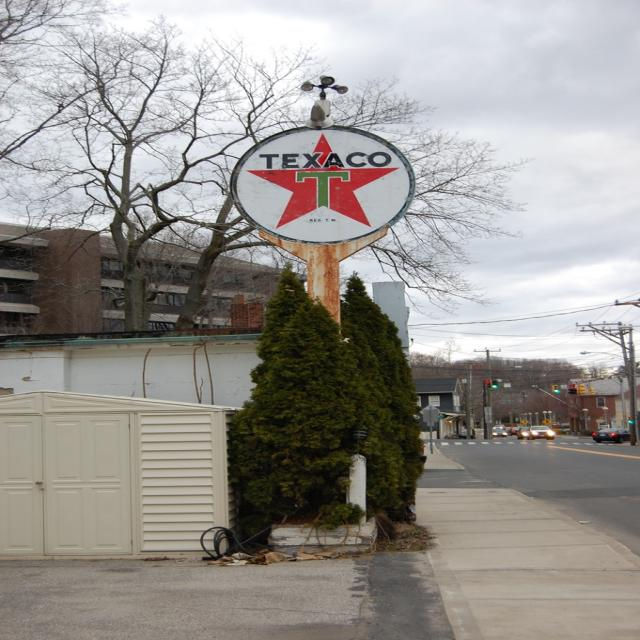texaco: (234, 129, 412, 243)
